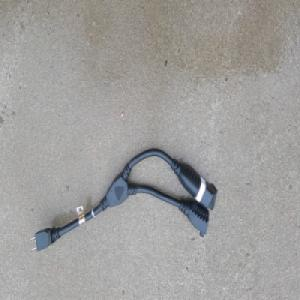Wire: (29, 146, 217, 253)
